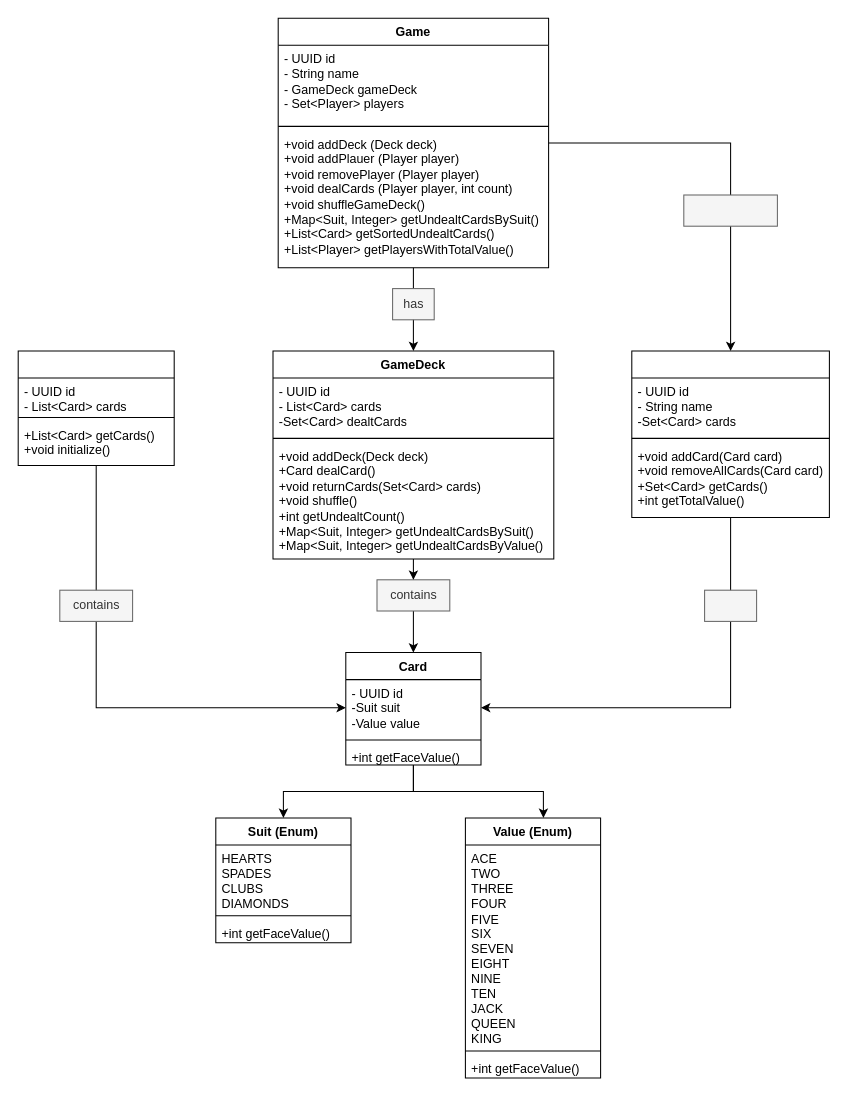
Image size: 848x1099. Some labels were removed from this diagram. Each missing label, with the box of its shape:
Deck: (17, 350, 174, 465)
has multiple: (683, 194, 777, 226)
holds: (704, 589, 757, 621)
Player: (631, 350, 829, 517)
